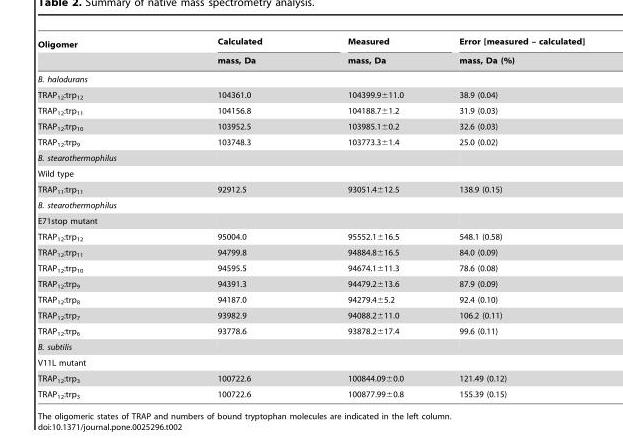table: (37, 36, 584, 399)
table column: (430, 36, 584, 399), (166, 36, 304, 399), (37, 36, 166, 399), (304, 36, 430, 399)
table column header: (37, 36, 584, 69)
table projected row header: (37, 69, 584, 86), (37, 165, 584, 181), (37, 212, 584, 228), (37, 354, 584, 370), (37, 150, 584, 165), (37, 197, 584, 212), (37, 339, 584, 354)
table row: (37, 52, 584, 69), (37, 69, 584, 86), (37, 36, 584, 52), (37, 86, 584, 102), (37, 102, 584, 118), (37, 118, 584, 134), (37, 134, 584, 150), (37, 165, 584, 181), (37, 181, 584, 197), (37, 212, 584, 228), (37, 228, 584, 244), (37, 244, 584, 260), (37, 275, 584, 291), (37, 291, 584, 307), (37, 307, 584, 323), (37, 323, 584, 339), (37, 354, 584, 370), (37, 370, 584, 386), (37, 150, 584, 165), (37, 197, 584, 212), (37, 260, 584, 275), (37, 339, 584, 354), (37, 386, 584, 399)
table spanning cell: (430, 36, 584, 69), (166, 36, 304, 69), (37, 36, 166, 69), (304, 36, 430, 69)
